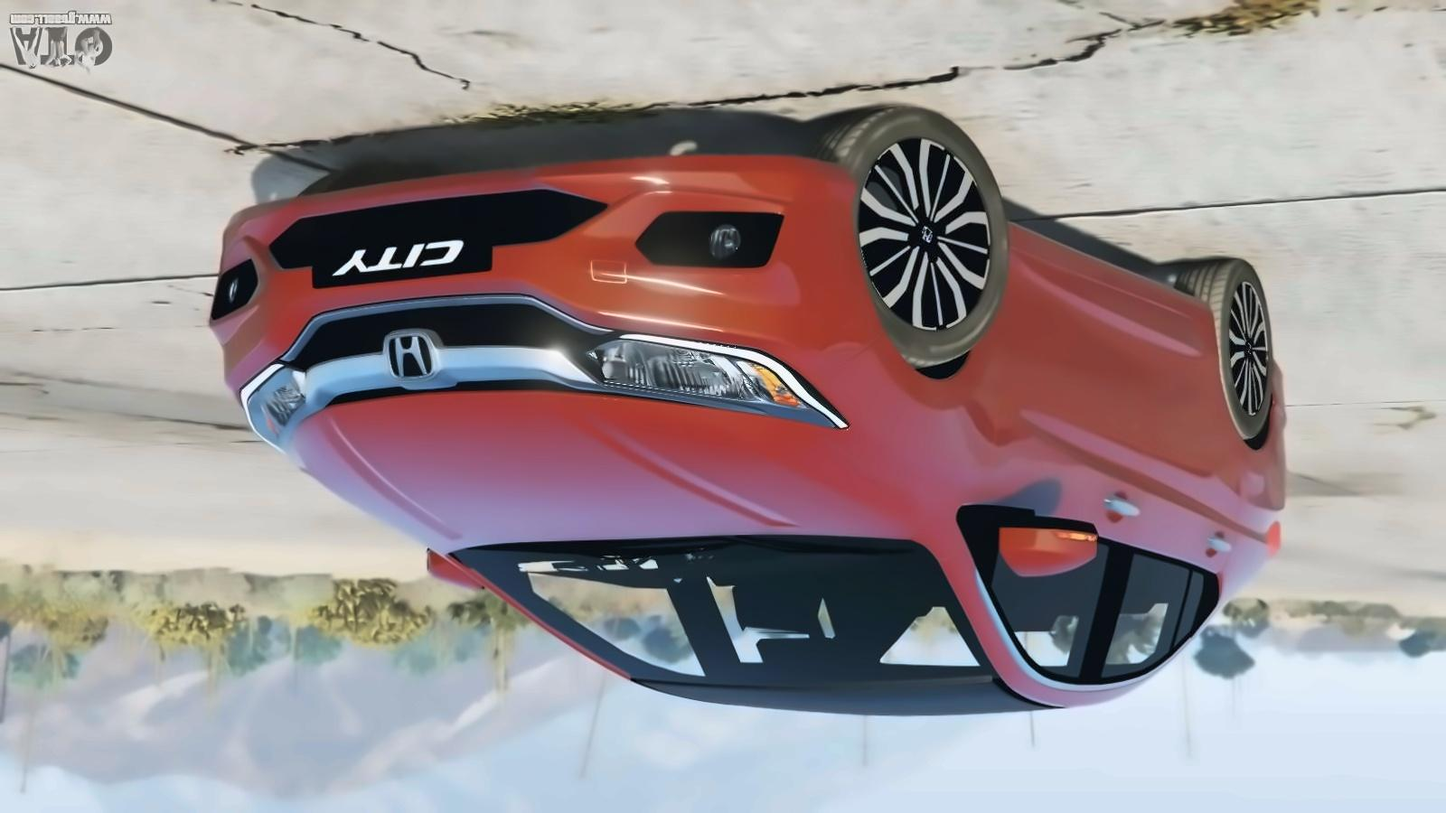Car hood: (274, 386, 957, 560)
Driver-s door - -F-R-: (963, 189, 1157, 712)
Fender - -F-R-: (816, 152, 1016, 550)
Fender - -R-R-: (1188, 304, 1294, 600)
Front bumper: (206, 150, 895, 388)
Headlight - -L-: (237, 356, 316, 465)
Headlight - -R-: (590, 329, 845, 431)
Passenger-s door - -R-R-: (1058, 237, 1232, 714)
Side bumper - -R-: (998, 208, 1221, 372)
Side mirror - -R-: (968, 510, 1102, 584)
